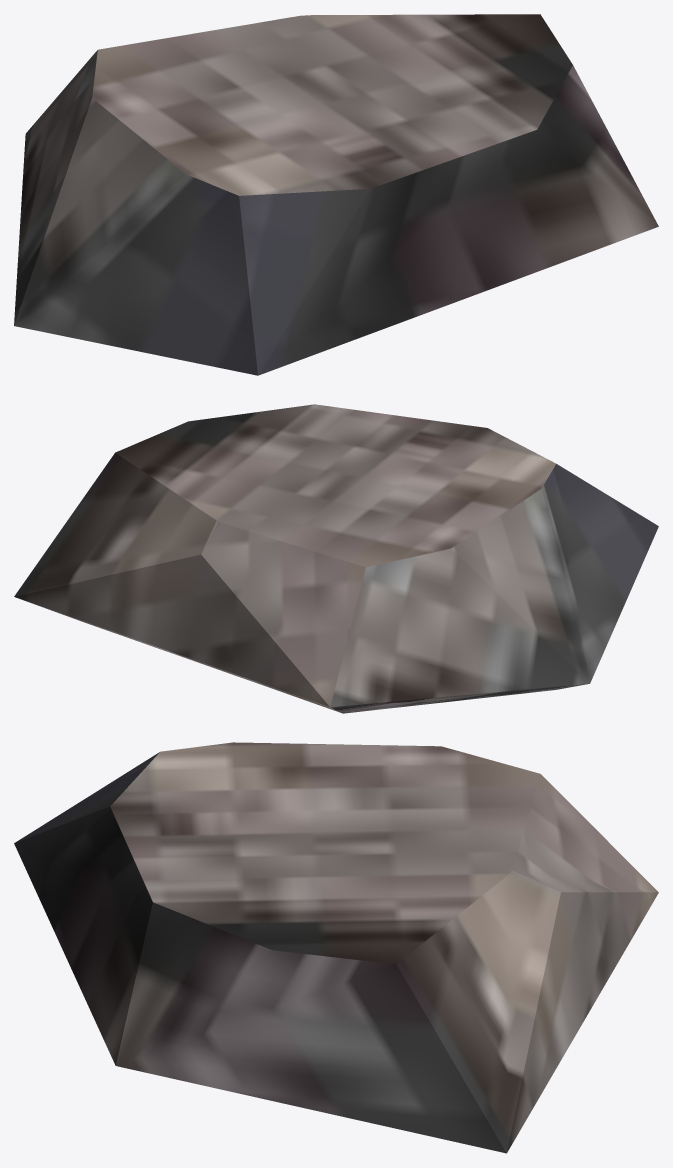
The model's file is rock.fbx.
3 renders of one model, top to bottom at view 1: azimuth 30°, elevation 25°; view 2: azimuth 150°, elevation 25°; view 3: azimuth 270°, elevation 25°, orthographic. The views are drawn at different scales.
Parts seen in each view (by area): view 1: Icosphere; view 2: Icosphere; view 3: Icosphere.
Part boxes in pixels (x1,y1,x2,y2): Icosphere: (14, 14, 658, 375); Icosphere: (14, 404, 658, 713); Icosphere: (14, 742, 658, 1153).
Bounding box in the file's own units: 217 × 61.98 × 191.
